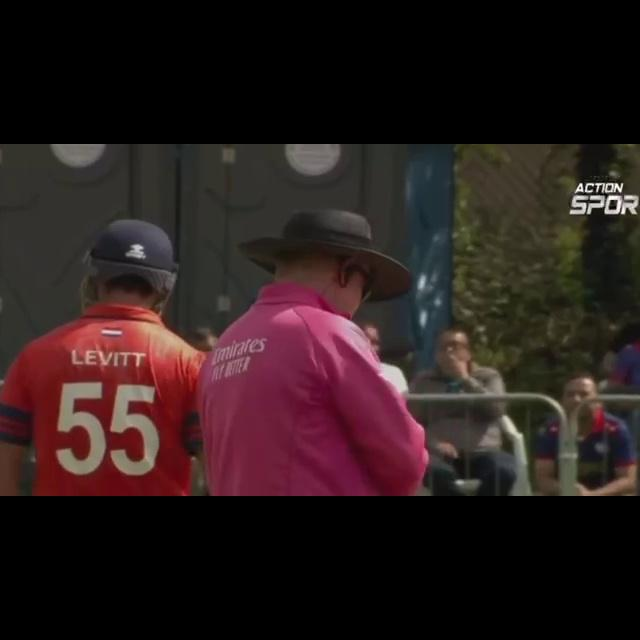umpire: (201, 194, 484, 496)
